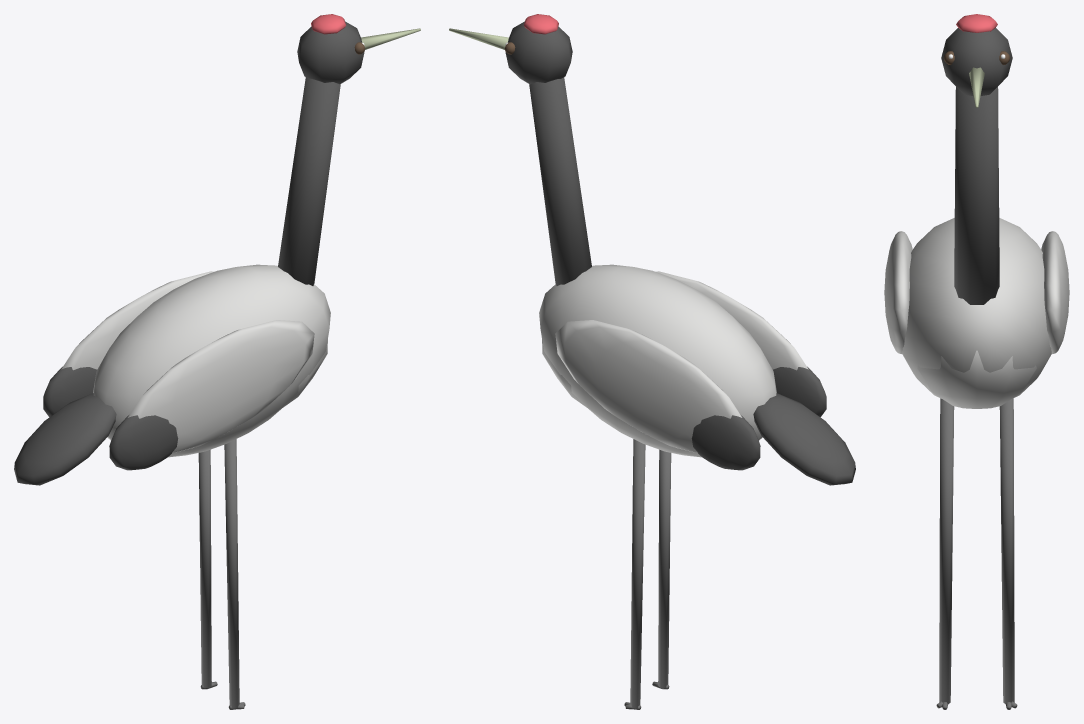
Rendered from red-crowned-crane.glb.
3 views of the same model, side by side, from view 1: azimuth 30°, elevation 25°; view 2: azimuth 150°, elevation 25°; view 3: azimuth 270°, elevation 25° (orthographic). The views are drawn at different scales.
Parts seen in each view (by area): view 1: e, e.002, e.007, e.004, e.009, limb, limb.004; view 2: e, e.004, e.007, e.002, e.009, limb.004, limb; view 3: e, e.007, e.009, limb.004, limb, e.002, e.004.
Part boxes in pixels (x1,y1,x2,y2): e: (14, 264, 330, 485); e.002: (109, 320, 314, 470); e.007: (278, 77, 340, 285); e.004: (43, 271, 213, 417); e.009: (297, 14, 420, 84); limb: (224, 439, 245, 709); limb.004: (198, 449, 217, 689); e: (539, 264, 855, 485); e.004: (555, 320, 760, 470); e.007: (529, 77, 591, 285); e.002: (656, 271, 826, 417); e.009: (449, 14, 572, 84); limb.004: (624, 439, 645, 709); limb: (652, 449, 671, 689); e: (902, 218, 1051, 408); e.007: (954, 87, 999, 304); e.009: (941, 14, 1012, 107); limb.004: (999, 398, 1017, 709); limb: (936, 398, 954, 709); e.002: (884, 231, 912, 353); e.004: (1041, 231, 1069, 353).
Size of the model in its own units: 0.8842 by 1.37 by 0.308.
